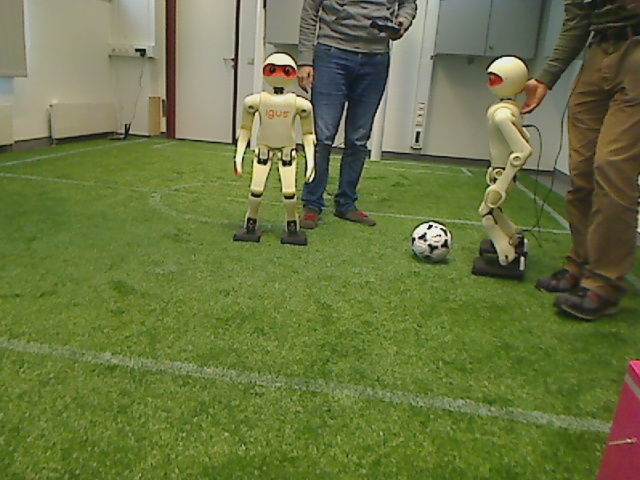ball: (407, 219, 458, 267)
robot: (466, 60, 547, 280), (233, 53, 320, 246)
